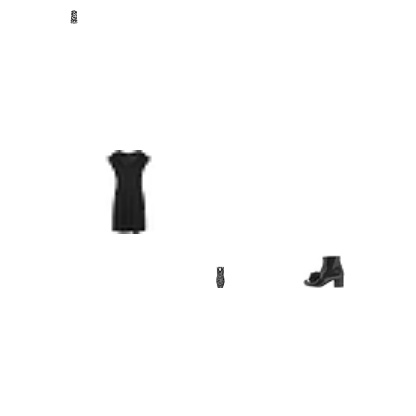Ankle_boot: (303, 250, 345, 292)
Dress: (88, 150, 172, 234), (209, 266, 231, 288)
Shirt: (67, 10, 81, 24)
